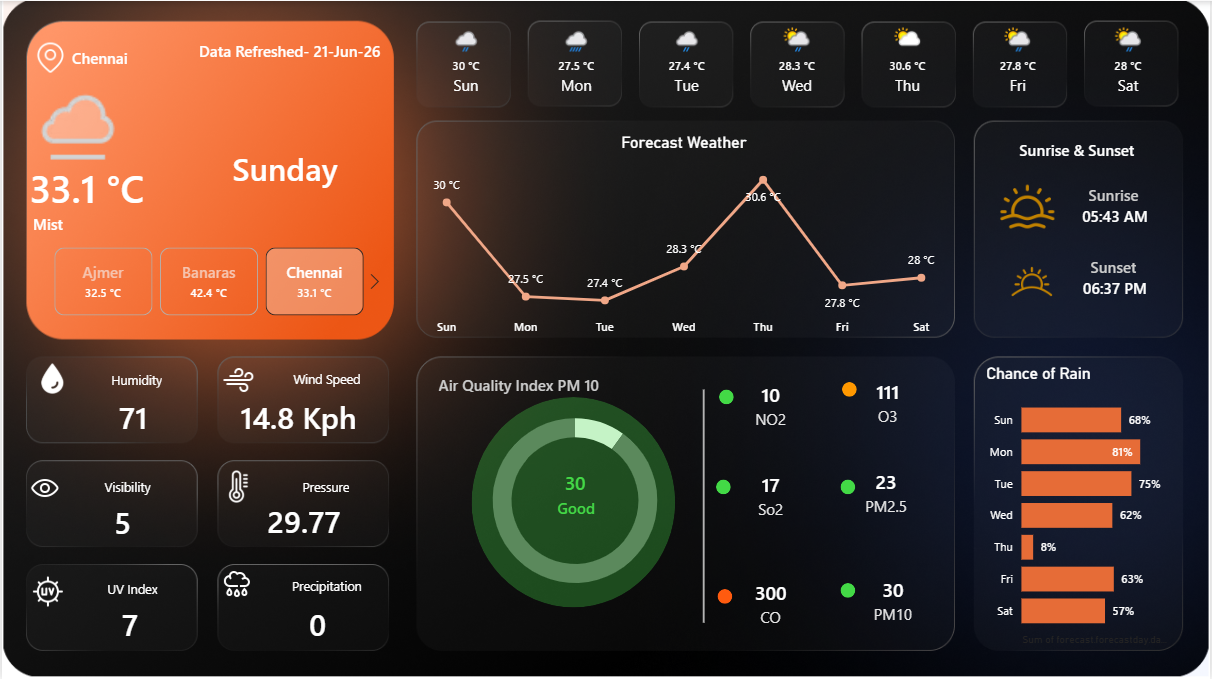

The page's visual inventory and layout, read from the dashboard file:
{"tool":"powerbi","page":{"name":"Weather Analysis","canvas":[1280,720],"ordinal":0},"visuals":[{"type":"donutChart","fields":{"Y":["Sum(Current.current.air_quality.pm10)","Measure.LeftValuePM10"]},"box":[493.3,413.1,228.3,231.8],"z":0},{"type":"advancedSlicerVisual","fields":{"Values":["Locations.location.name"]},"box":[30.2,256.1,380.2,82.7],"z":1000},{"type":"cardVisual","fields":{"Data":["Min(Current.current.condition.icon)"]},"box":[5.1,54.5,151.6,143.1],"z":2000},{"type":"shape","box":[23.9,160.1,189.1,75],"z":3000},{"type":"shape","box":[30.7,218.1,177.2,37.5],"z":4000},{"type":"shape","box":[71.6,40.9,178.9,37.5],"z":5000},{"type":"shape","box":[1038.7,140,202,36.6],"z":6000},{"type":"image","box":[35.8,40.9,32.4,37.5],"z":7000},{"type":"image","box":[18.7,383.3,68.1,34.1],"z":9000},{"type":"shape","box":[86.9,383.3,110.7,35.8],"z":10000},{"type":"shape","box":[68.1,497.5,129.5,34.1],"z":11000},{"type":"shape","box":[80.1,606.5,117.6,34.1],"z":12000},{"type":"shape","box":[282.8,383.3,122.7,34.1],"z":13000},{"type":"shape","box":[284.5,497.5,117.6,34.1],"z":14000},{"type":"shape","box":[282.8,603.1,122.7,34.1],"z":15000},{"type":"image","box":[11.9,499.2,68.1,34.1],"z":16000},{"type":"image","box":[13.6,609.9,68.1,34.1],"z":17000},{"type":"image","box":[214.7,601.4,68.1,34.1],"z":18000},{"type":"image","box":[216.4,497.5,68.1,34.1],"z":19000},{"type":"image","box":[216.4,385,68.1,34.1],"z":20000},{"type":"cardVisual","fields":{"Data":["Sum(Current.current.humidity)"]},"box":[88.6,398.7,100.5,81.8],"z":21000},{"type":"cardVisual","fields":{"Data":["Measure.Wind_speed"]},"box":[219.8,398.7,190.8,81.8],"z":22000},{"type":"cardVisual","fields":{"Data":["Sum(Current.current.vis_km)"]},"box":[78.4,511.1,100.5,81.8],"z":23000},{"type":"cardVisual","fields":{"Data":["Sum(Current.current.uv)"]},"box":[85.2,618.4,100.5,81.8],"z":24000},{"type":"cardVisual","fields":{"Data":["Sum(Current.current.precip_in)"]},"box":[284.5,618.4,100.5,81.8],"z":25000},{"type":"cardVisual","fields":{"Data":["Sum(Current.current.pressure_in)"]},"box":[250.4,509.4,141.4,81.8],"z":26000},{"type":"shape","box":[199.3,117.6,202.7,117.6],"z":27000},{"type":"advancedSlicerVisual","fields":{"Values":["Forcast_day.Day_Name"]},"box":[432.6,17.5,827.1,100.2],"z":28000},{"type":"lineChart","title":"Forecast Weather","fields":{"Category":["Forcast_day.Day_Name"],"Y":["Sum(Forcast_day.forecast.forecastday.day.avgtemp_c)"]},"box":[432.3,139.4,580.4,223.1],"z":29000},{"type":"shape","box":[1118.2,205.2,124.1,44.5],"z":30000},{"type":"shape","box":[1116.6,259.3,124.1,44.5],"z":31000},{"type":"image","box":[1038.7,189.3,97,57.3],"z":32000},{"type":"image","box":[1043.4,268.8,97,57.3],"z":33000},{"type":"shape","box":[1116.6,182.9,124.1,44.5],"z":34000},{"type":"shape","box":[1118.2,281.5,124.1,44.5],"z":35000},{"type":"barChart","title":"Chance of Rain","fields":{"Y":["Sum(Forcast_day.forecast.forecastday.day.daily_chance_of_rain)"],"Category":["Forcast_day.Day_Name"]},"box":[1039,384.2,202.5,302.8],"z":36000},{"type":"cardVisual","fields":{"Data":["Sum(Current.current.air_quality.o3)"]},"box":[889.2,384.9,100.2,81.1],"z":37000},{"type":"cardVisual","fields":{"Data":["Sum(Current.current.air_quality.pm2_5)"]},"box":[876.8,481.1,122,80.2],"z":38000},{"type":"cardVisual","fields":{"Data":["Sum(Current.current.air_quality.pm10)"]},"box":[890.7,594.4,108.1,81.9],"z":39000},{"type":"cardVisual","fields":{"Data":["Sum(Current.current.air_quality.no2)"]},"box":[765.5,388.6,100.2,81.1],"z":40000},{"type":"cardVisual","fields":{"Data":["Sum(Current.current.air_quality.so2)"]},"box":[765.5,484,100.2,81.1],"z":41000},{"type":"cardVisual","fields":{"Data":["Sum(Current.current.air_quality.co)"]},"box":[765.5,598.5,100.2,81.1],"z":42000},{"type":"shape","box":[181.3,35,222.7,36.6],"z":43000},{"type":"shape","box":[889,617.1,15.7,15.7],"z":44000},{"type":"shape","box":[758.2,624,15.7,15.7],"z":45000},{"type":"shape","box":[756.5,507.2,15.7,15.7],"z":46000},{"type":"shape","box":[760,411.4,15.7,15.7],"z":47000},{"type":"shape","box":[890.7,404.4,15.7,15.7],"z":48000},{"type":"shape","box":[889,507.2,15.7,15.7],"z":49000},{"type":"shape","box":[719.9,411.4,47.1,247.5],"z":50000},{"type":"cardVisual","fields":{"Data":["Sum(Current.current.air_quality.pm10)"]},"box":[538.6,465.4,137.7,87.2],"z":51000},{"type":"shape","box":[498.5,420.1,216.1,223.1],"z":52000},{"type":"shape","box":[460.2,385.2,216.1,43.6],"z":53000},{"type":"shape","box":[538.6,521.2,177.8,43.6],"z":53001},{"type":"shape","box":[519.4,516,177.8,43.6],"z":53002}]}

Visuals, with their boxes in screenshot pixels (x1, y1, x2, y2), scaled from the page's 1280x720 canvas onto the 1212x679 screenshot:
donutChart - Sum(Current.current.air_quality.pm10) x Measure.LeftValuePM10: (left=467, top=390, right=683, bottom=608)
advancedSlicerVisual - Locations.location.name: (left=29, top=242, right=389, bottom=320)
cardVisual - Min(Current.current.condition.icon): (left=5, top=51, right=148, bottom=186)
shape: (left=23, top=151, right=202, bottom=222)
shape: (left=29, top=206, right=197, bottom=241)
shape: (left=68, top=39, right=237, bottom=74)
shape: (left=984, top=132, right=1175, bottom=167)
image: (left=34, top=39, right=65, bottom=74)
image: (left=18, top=361, right=82, bottom=394)
shape: (left=82, top=361, right=187, bottom=395)
shape: (left=64, top=469, right=187, bottom=501)
shape: (left=76, top=572, right=187, bottom=604)
shape: (left=268, top=361, right=384, bottom=394)
shape: (left=269, top=469, right=381, bottom=501)
shape: (left=268, top=569, right=384, bottom=601)
image: (left=11, top=471, right=76, bottom=503)
image: (left=13, top=575, right=77, bottom=607)
image: (left=203, top=567, right=268, bottom=599)
image: (left=205, top=469, right=269, bottom=501)
image: (left=205, top=363, right=269, bottom=395)
cardVisual - Sum(Current.current.humidity): (left=84, top=376, right=179, bottom=453)
cardVisual - Measure.Wind_speed: (left=208, top=376, right=389, bottom=453)
cardVisual - Sum(Current.current.vis_km): (left=74, top=482, right=169, bottom=559)
cardVisual - Sum(Current.current.uv): (left=81, top=583, right=176, bottom=660)
cardVisual - Sum(Current.current.precip_in): (left=269, top=583, right=365, bottom=660)
cardVisual - Sum(Current.current.pressure_in): (left=237, top=480, right=371, bottom=558)
shape: (left=189, top=111, right=381, bottom=222)
advancedSlicerVisual - Forcast_day.Day_Name: (left=410, top=17, right=1193, bottom=111)
"Forecast Weather" lineChart: (left=409, top=131, right=959, bottom=342)
shape: (left=1059, top=194, right=1176, bottom=235)
shape: (left=1057, top=245, right=1175, bottom=287)
image: (left=984, top=179, right=1075, bottom=233)
image: (left=988, top=253, right=1080, bottom=308)
shape: (left=1057, top=172, right=1175, bottom=214)
shape: (left=1059, top=265, right=1176, bottom=307)
"Chance of Rain" barChart: (left=984, top=362, right=1176, bottom=648)
cardVisual - Sum(Current.current.air_quality.o3): (left=842, top=363, right=937, bottom=439)
cardVisual - Sum(Current.current.air_quality.pm2_5): (left=830, top=454, right=946, bottom=529)
cardVisual - Sum(Current.current.air_quality.pm10): (left=843, top=561, right=946, bottom=638)
cardVisual - Sum(Current.current.air_quality.no2): (left=725, top=366, right=820, bottom=443)
cardVisual - Sum(Current.current.air_quality.so2): (left=725, top=456, right=820, bottom=533)
cardVisual - Sum(Current.current.air_quality.co): (left=725, top=564, right=820, bottom=641)
shape: (left=172, top=33, right=383, bottom=68)
shape: (left=842, top=582, right=857, bottom=597)
shape: (left=718, top=588, right=733, bottom=603)
shape: (left=716, top=478, right=731, bottom=493)
shape: (left=720, top=388, right=734, bottom=403)
shape: (left=843, top=381, right=858, bottom=396)
shape: (left=842, top=478, right=857, bottom=493)
shape: (left=682, top=388, right=726, bottom=621)
cardVisual - Sum(Current.current.air_quality.pm10): (left=510, top=439, right=640, bottom=521)
shape: (left=472, top=396, right=677, bottom=607)
shape: (left=436, top=363, right=640, bottom=404)
shape: (left=510, top=492, right=678, bottom=533)
shape: (left=492, top=487, right=660, bottom=528)
